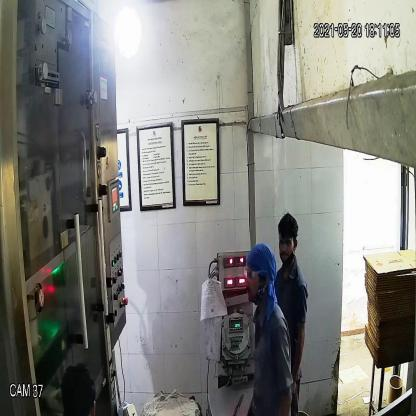goggles: (242, 260, 270, 281)
no_goggles: (272, 233, 300, 254)
